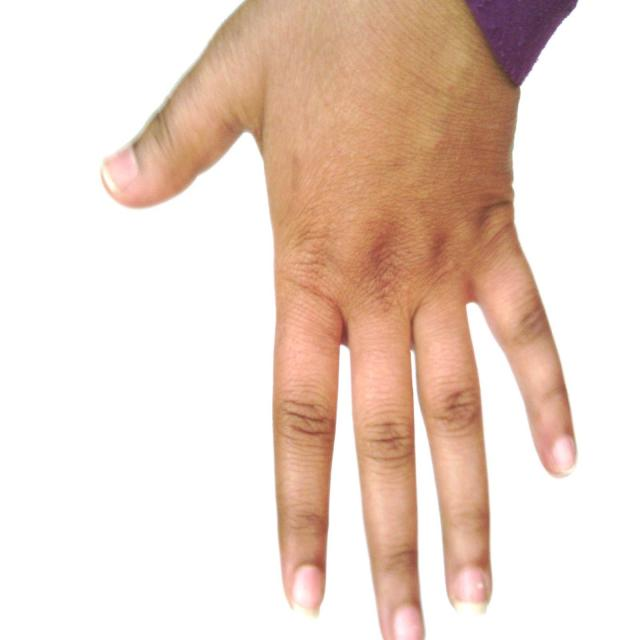others: (96, 0, 598, 639)
